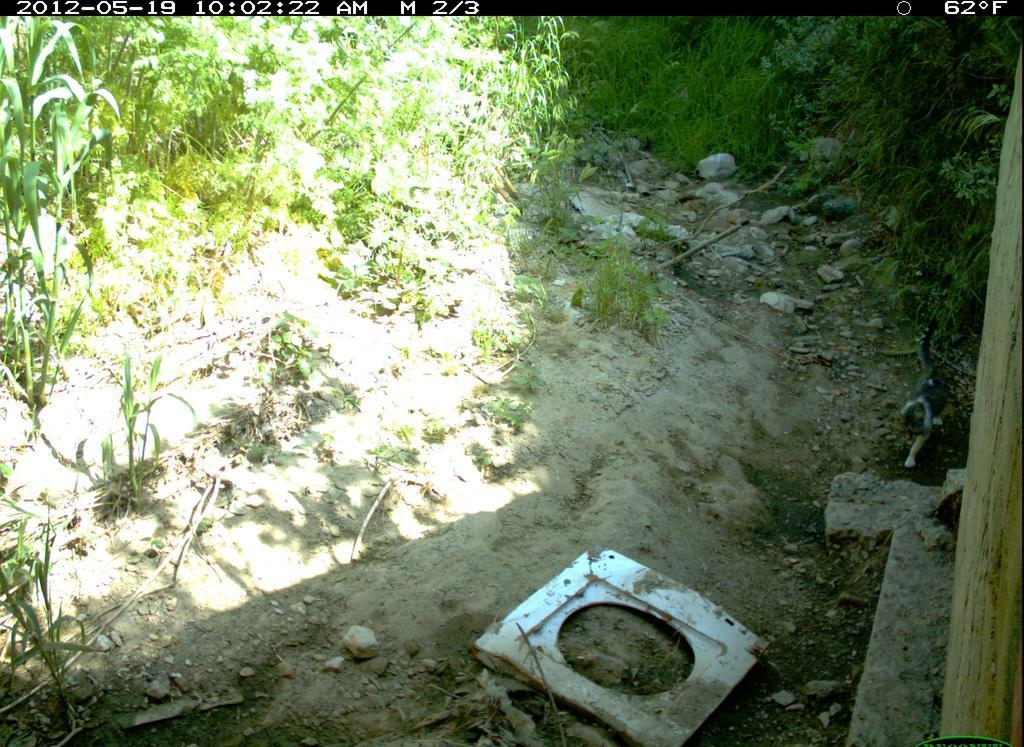cat: (897, 317, 957, 473)
